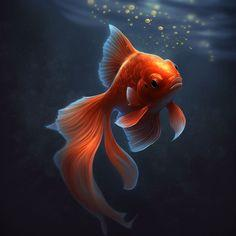goldfish: (89, 43, 190, 134)
